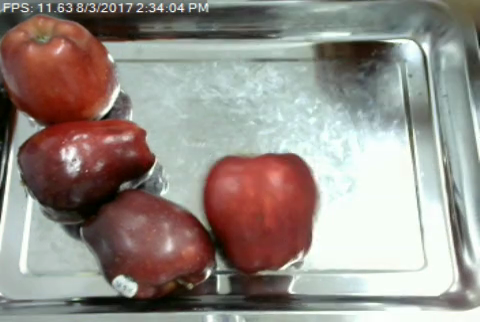Apple: (78, 184, 218, 302), (197, 151, 321, 277), (0, 8, 122, 127), (15, 115, 157, 217)
